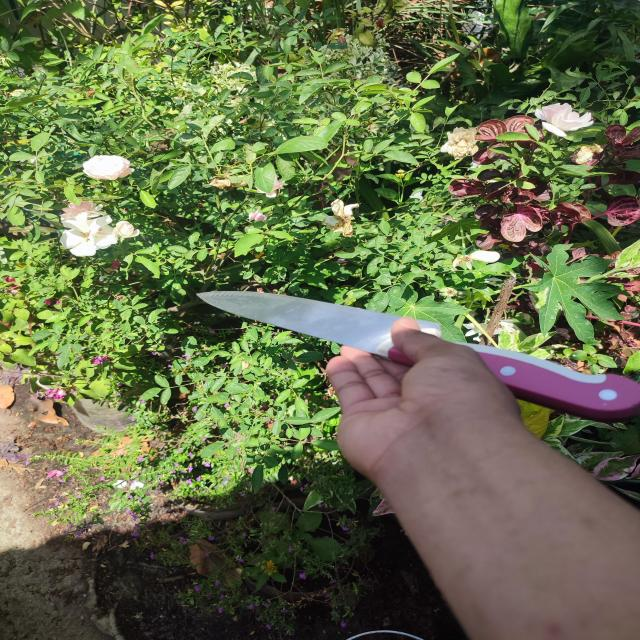knife: (196, 291, 640, 420)
